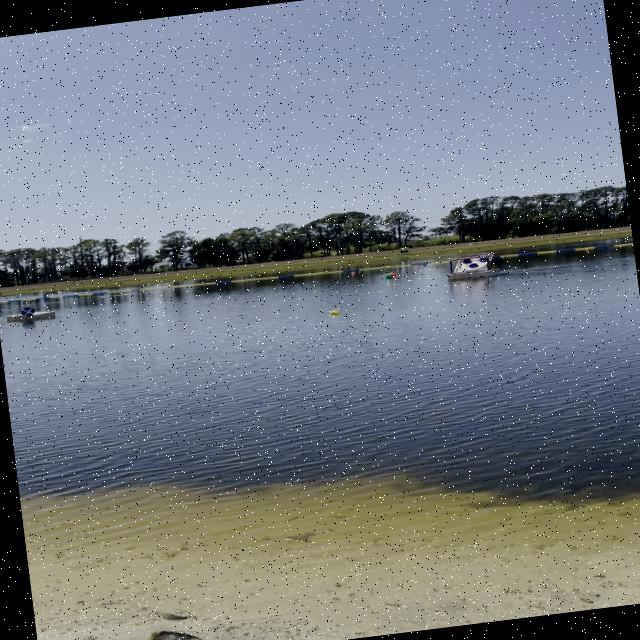buoy: (328, 310, 339, 314), (386, 274, 392, 280)
